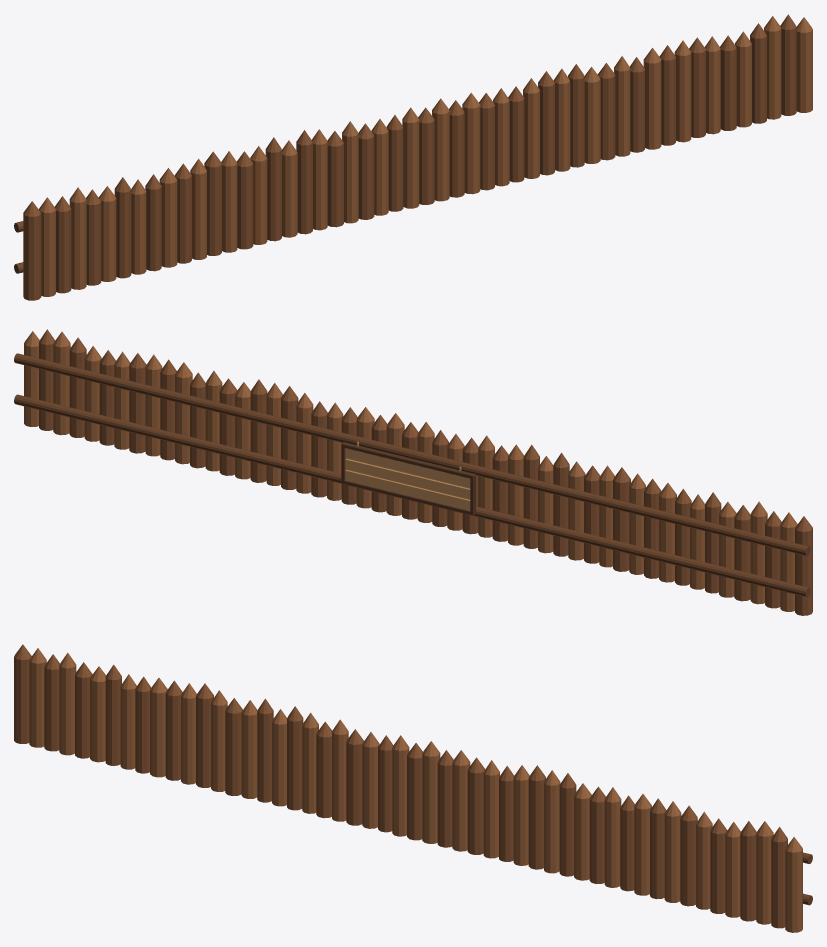
File: gate.glb
3 renders of one model, top to bottom at view 1: azimuth 30°, elevation 25°; view 2: azimuth 150°, elevation 25°; view 3: azimuth 330°, elevation 25°, orthographic.
Visible parts, largest first — view 1: Wood__96623C, Wood__845434; view 2: Wood__845434, Wood__96623C, Wood__70482C, WoodPlanks__CC9660, Wood__5A3A26; view 3: Wood__96623C, Wood__845434.
Boxes of the visible parts, <box> form: Wood__96623C: <box>38,16,812,296</box>; Wood__845434: <box>23,14,796,300</box>; Wood__845434: <box>39,329,812,615</box>; Wood__96623C: <box>24,331,797,611</box>; Wood__70482C: <box>14,353,810,597</box>; WoodPlanks__CC9660: <box>345,448,470,510</box>; Wood__5A3A26: <box>341,442,475,515</box>; Wood__96623C: <box>29,648,802,932</box>; Wood__845434: <box>14,644,787,928</box>.
Bounding box in the file's own units: 101 × 12.3 × 3.46.
